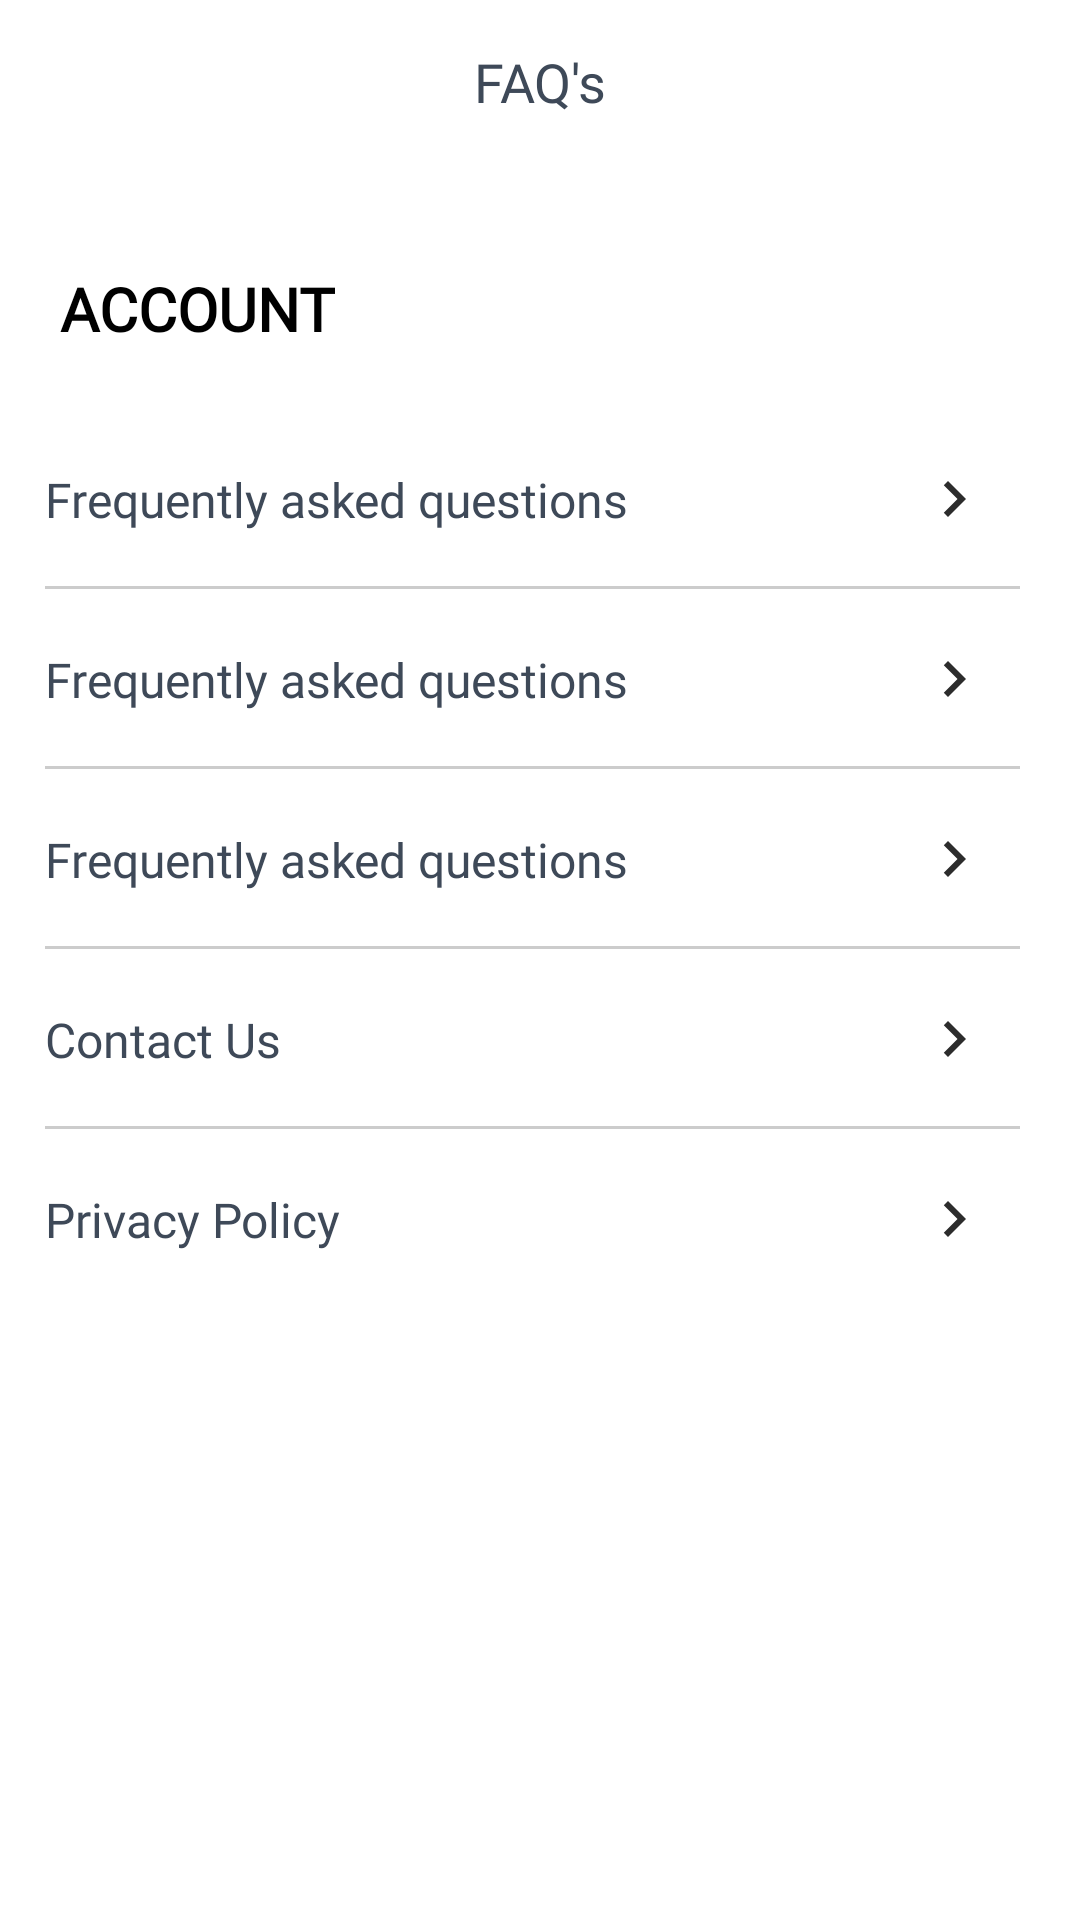

Where icons sit on this 1080px x 1920px app screen, as bbox=[x1, y1, x2, y2]:
right: bbox=[944, 481, 966, 517], bbox=[944, 661, 966, 697], bbox=[944, 841, 966, 877], bbox=[944, 1021, 966, 1057], bbox=[944, 1201, 966, 1237]
